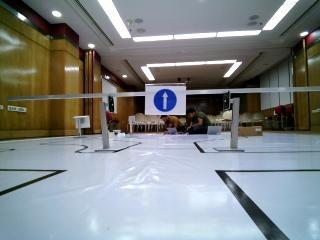straight: (145, 83, 187, 118)
